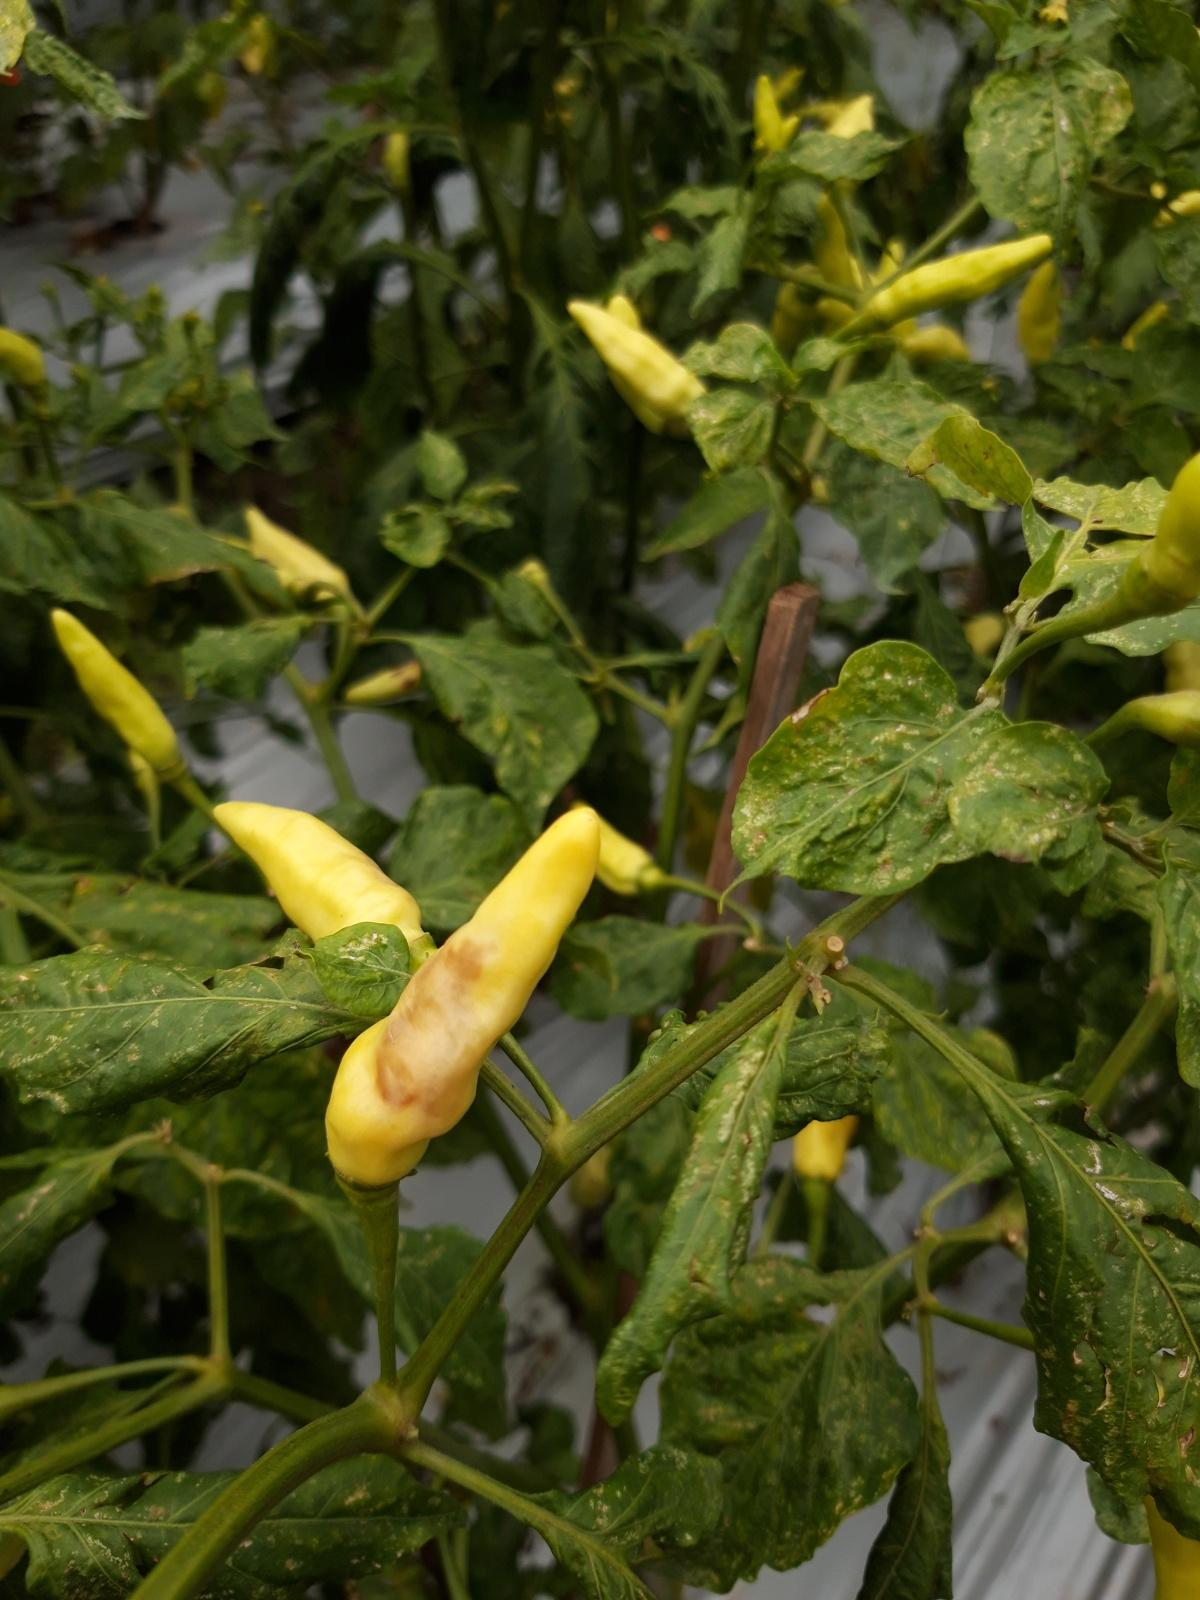cabai_normal: (211, 801, 429, 963), (52, 609, 183, 776), (865, 234, 1053, 333), (566, 300, 705, 420), (246, 506, 348, 598), (571, 800, 653, 897)
lalat_buah: (324, 805, 603, 1187)
